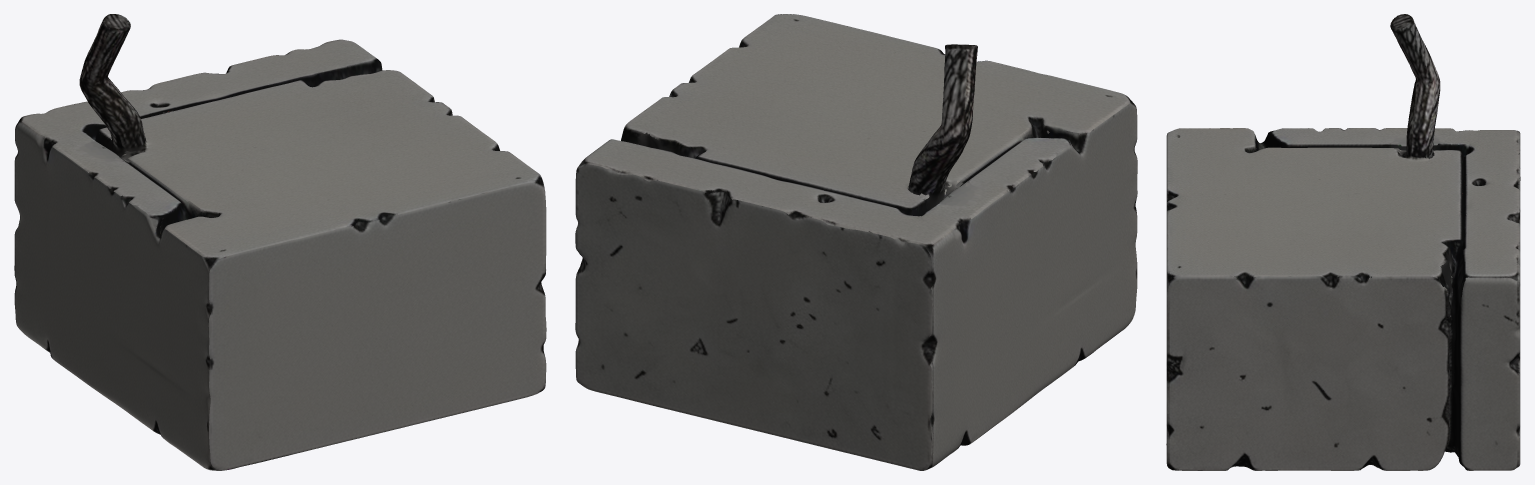
The model's file is debris-concrete.glb.
3 views of the same model, side by side, from view 1: azimuth 30°, elevation 25°; view 2: azimuth 150°, elevation 25°; view 3: azimuth 270°, elevation 25° (orthographic). The views are drawn at different scales.
Parts seen in each view (by area): view 1: tmpvyaycgno.ply; view 2: tmpvyaycgno.ply; view 3: tmpvyaycgno.ply.
Boxes of the visible parts, <box> form: tmpvyaycgno.ply: <box>14,14,546,470</box>; tmpvyaycgno.ply: <box>575,14,1137,470</box>; tmpvyaycgno.ply: <box>1166,14,1520,470</box>.
Size of the model in its own units: 1 by 1 by 1.
Materials: 1 (1 with a texture image).
